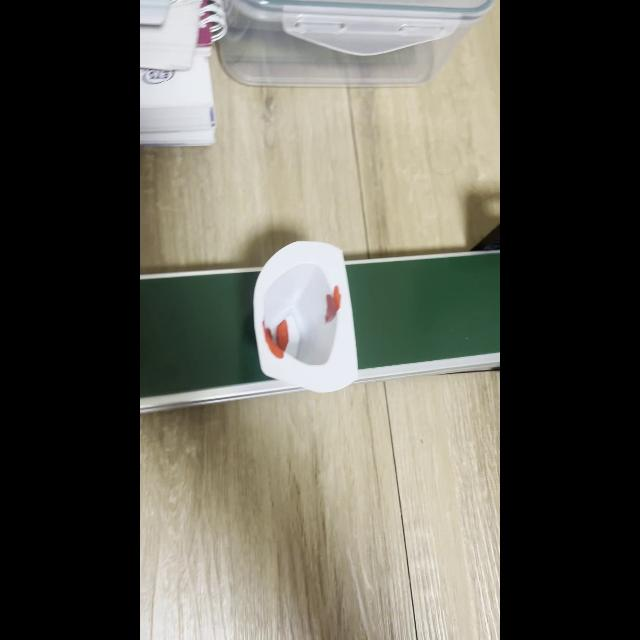dirty: (252, 240, 358, 392)
